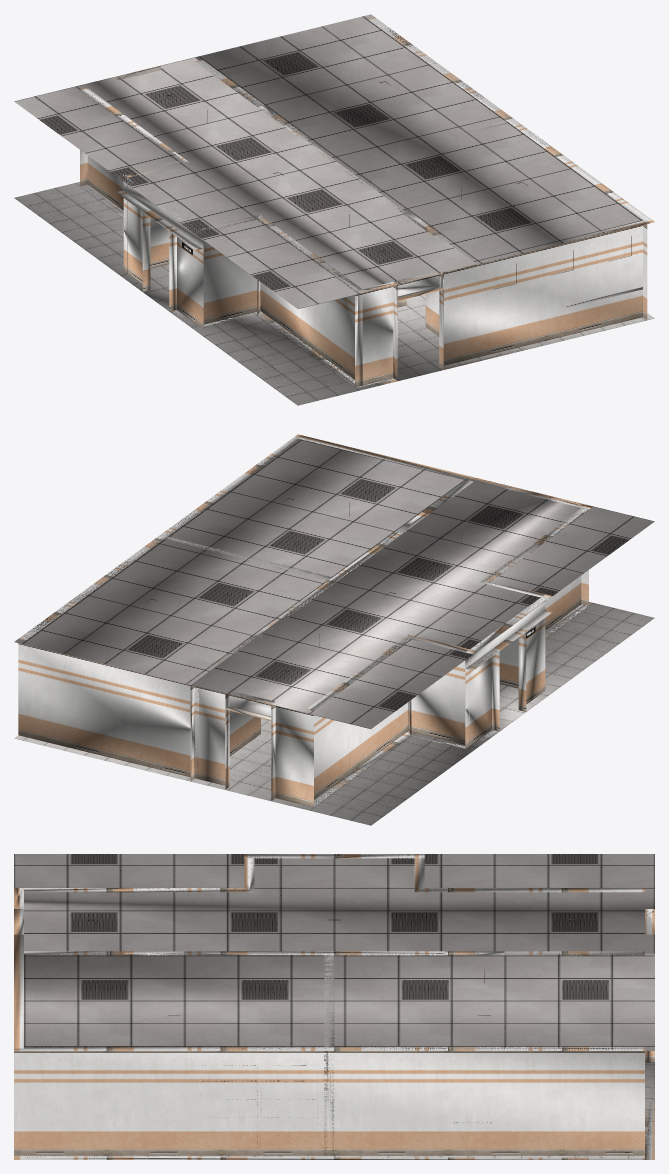
The model's file is room2poffices_opt.obj.
3 renders of one model, top to bottom at view 1: azimuth 30°, elevation 25°; view 2: azimuth 150°, elevation 25°; view 3: azimuth 270°, elevation 25°, orthographic. The views are drawn at different scales.
Bounding box in the file's own units: 74.4 × 21.94 × 102.
Materials: 15 (15 with a texture image).
